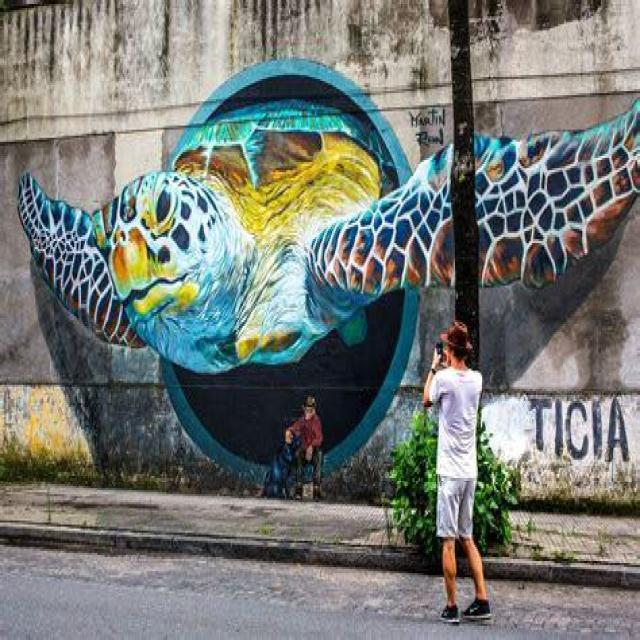nonspitting: (526, 397, 632, 465)
spitting: (17, 101, 640, 378)
